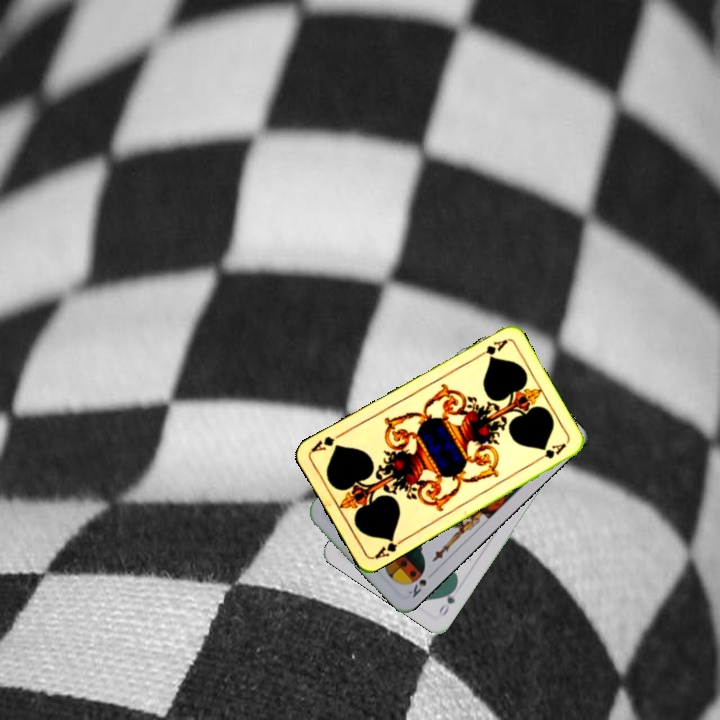GA: (370, 533, 407, 562), (472, 335, 510, 361)
GO: (435, 581, 459, 619)
SK: (404, 575, 429, 600)
